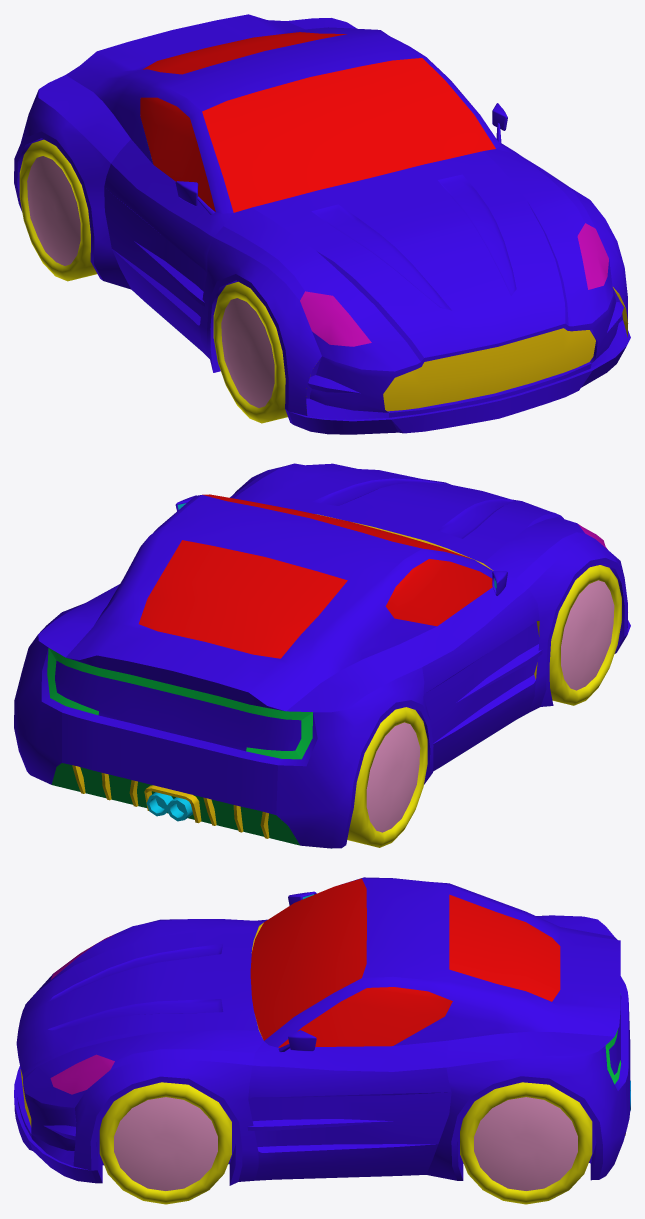
Rendered from 13_BayonettOmega_ColorCoded.fbx.
3 views of the same model, one above another, from view 1: azimuth 30°, elevation 25°; view 2: azimuth 150°, elevation 25°; view 3: azimuth 270°, elevation 25° (orthographic). The views are drawn at different scales.
Parts seen in each view (by area): view 1: Body, tireFrontR, tireBackR; view 2: Body, tireBackR, tireFrontR; view 3: Body, tireFrontL, tireBackL.
Part boxes in pixels (x1,y1,x2,y2): Body: (14, 14, 630, 434); tireFrontR: (213, 281, 287, 423); tireBackR: (19, 139, 97, 281); Body: (14, 463, 630, 848); tireBackR: (347, 707, 427, 847); tireFrontR: (549, 565, 621, 705); Body: (14, 877, 630, 1185); tireFrontL: (99, 1082, 231, 1204); tireBackL: (460, 1082, 592, 1204).
Bounding box in the file's own units: 62.96 × 38.53 × 104.
